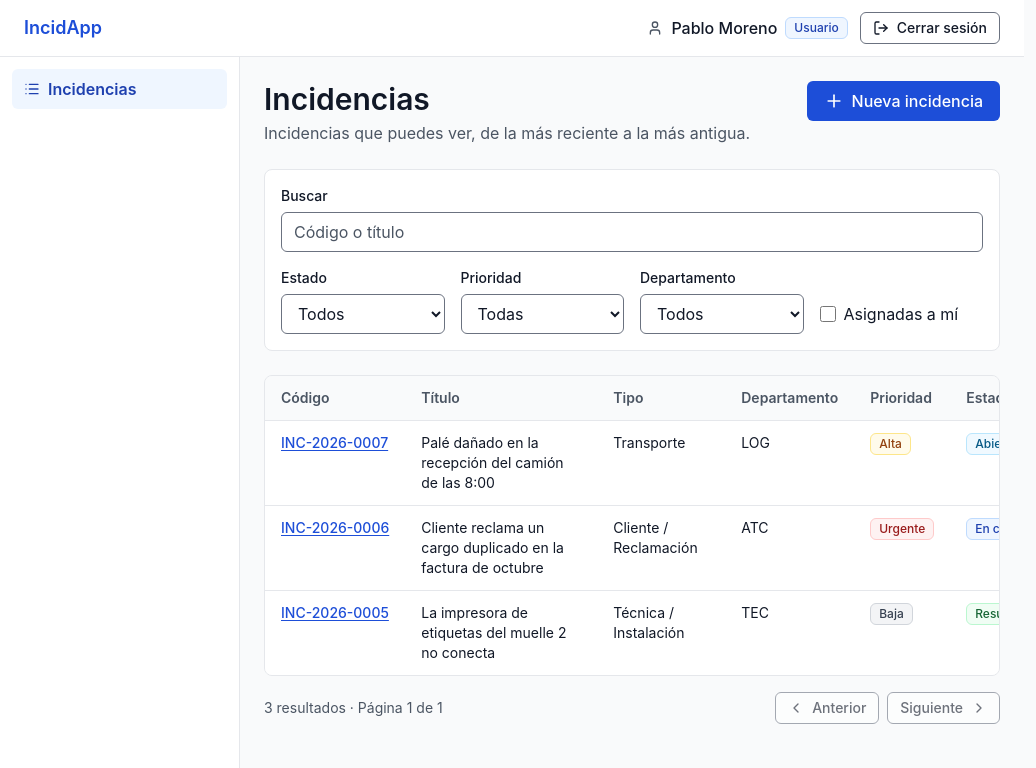
it: CA-03.12 · listado de incidencias › el buscador espera a que se deje de escribir: una sola petición con el texto
Step 1. Type "palé" into the search field labelled "Buscar" → (632, 232), box top-left (281, 212), bottom-right (983, 252)
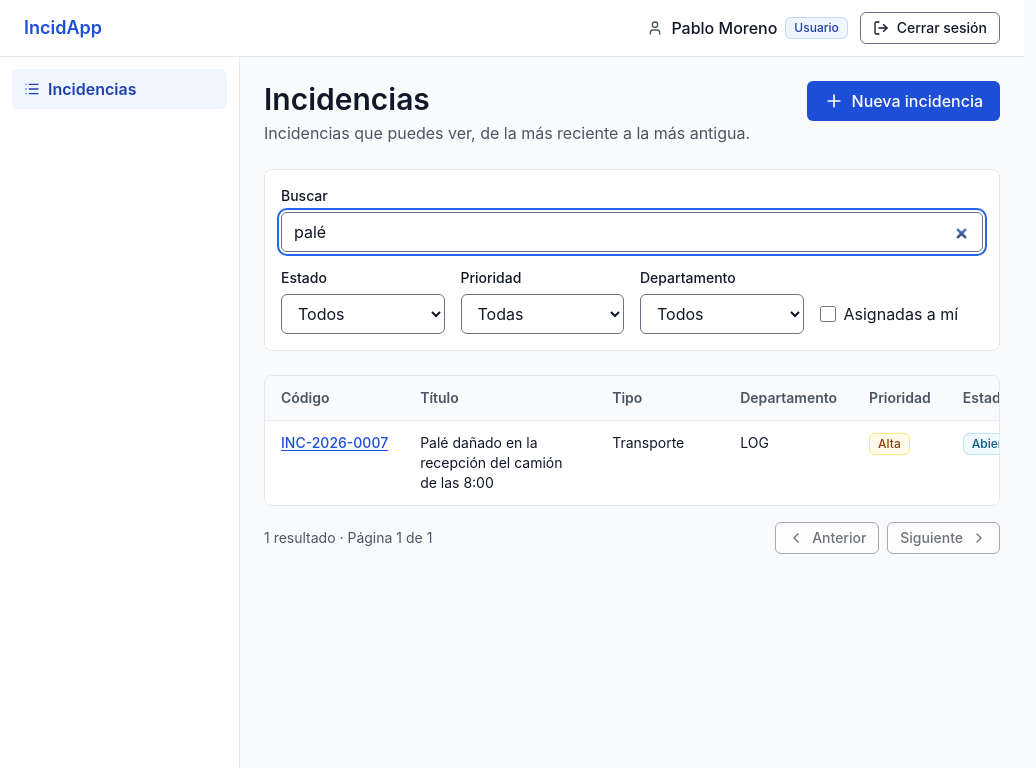
Check: the text "1 resultado · Página 1 de 1" is shown, box top-left (264, 528), bottom-right (432, 548)
